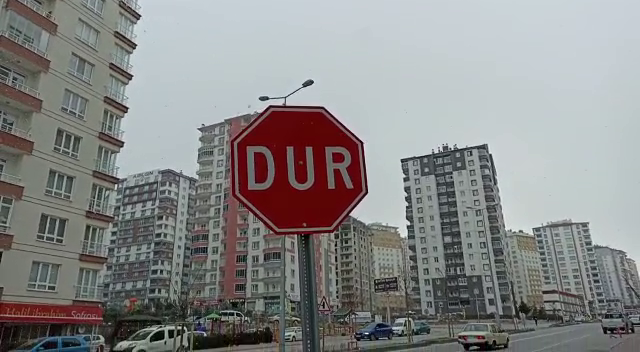stop: (227, 102, 374, 239)
